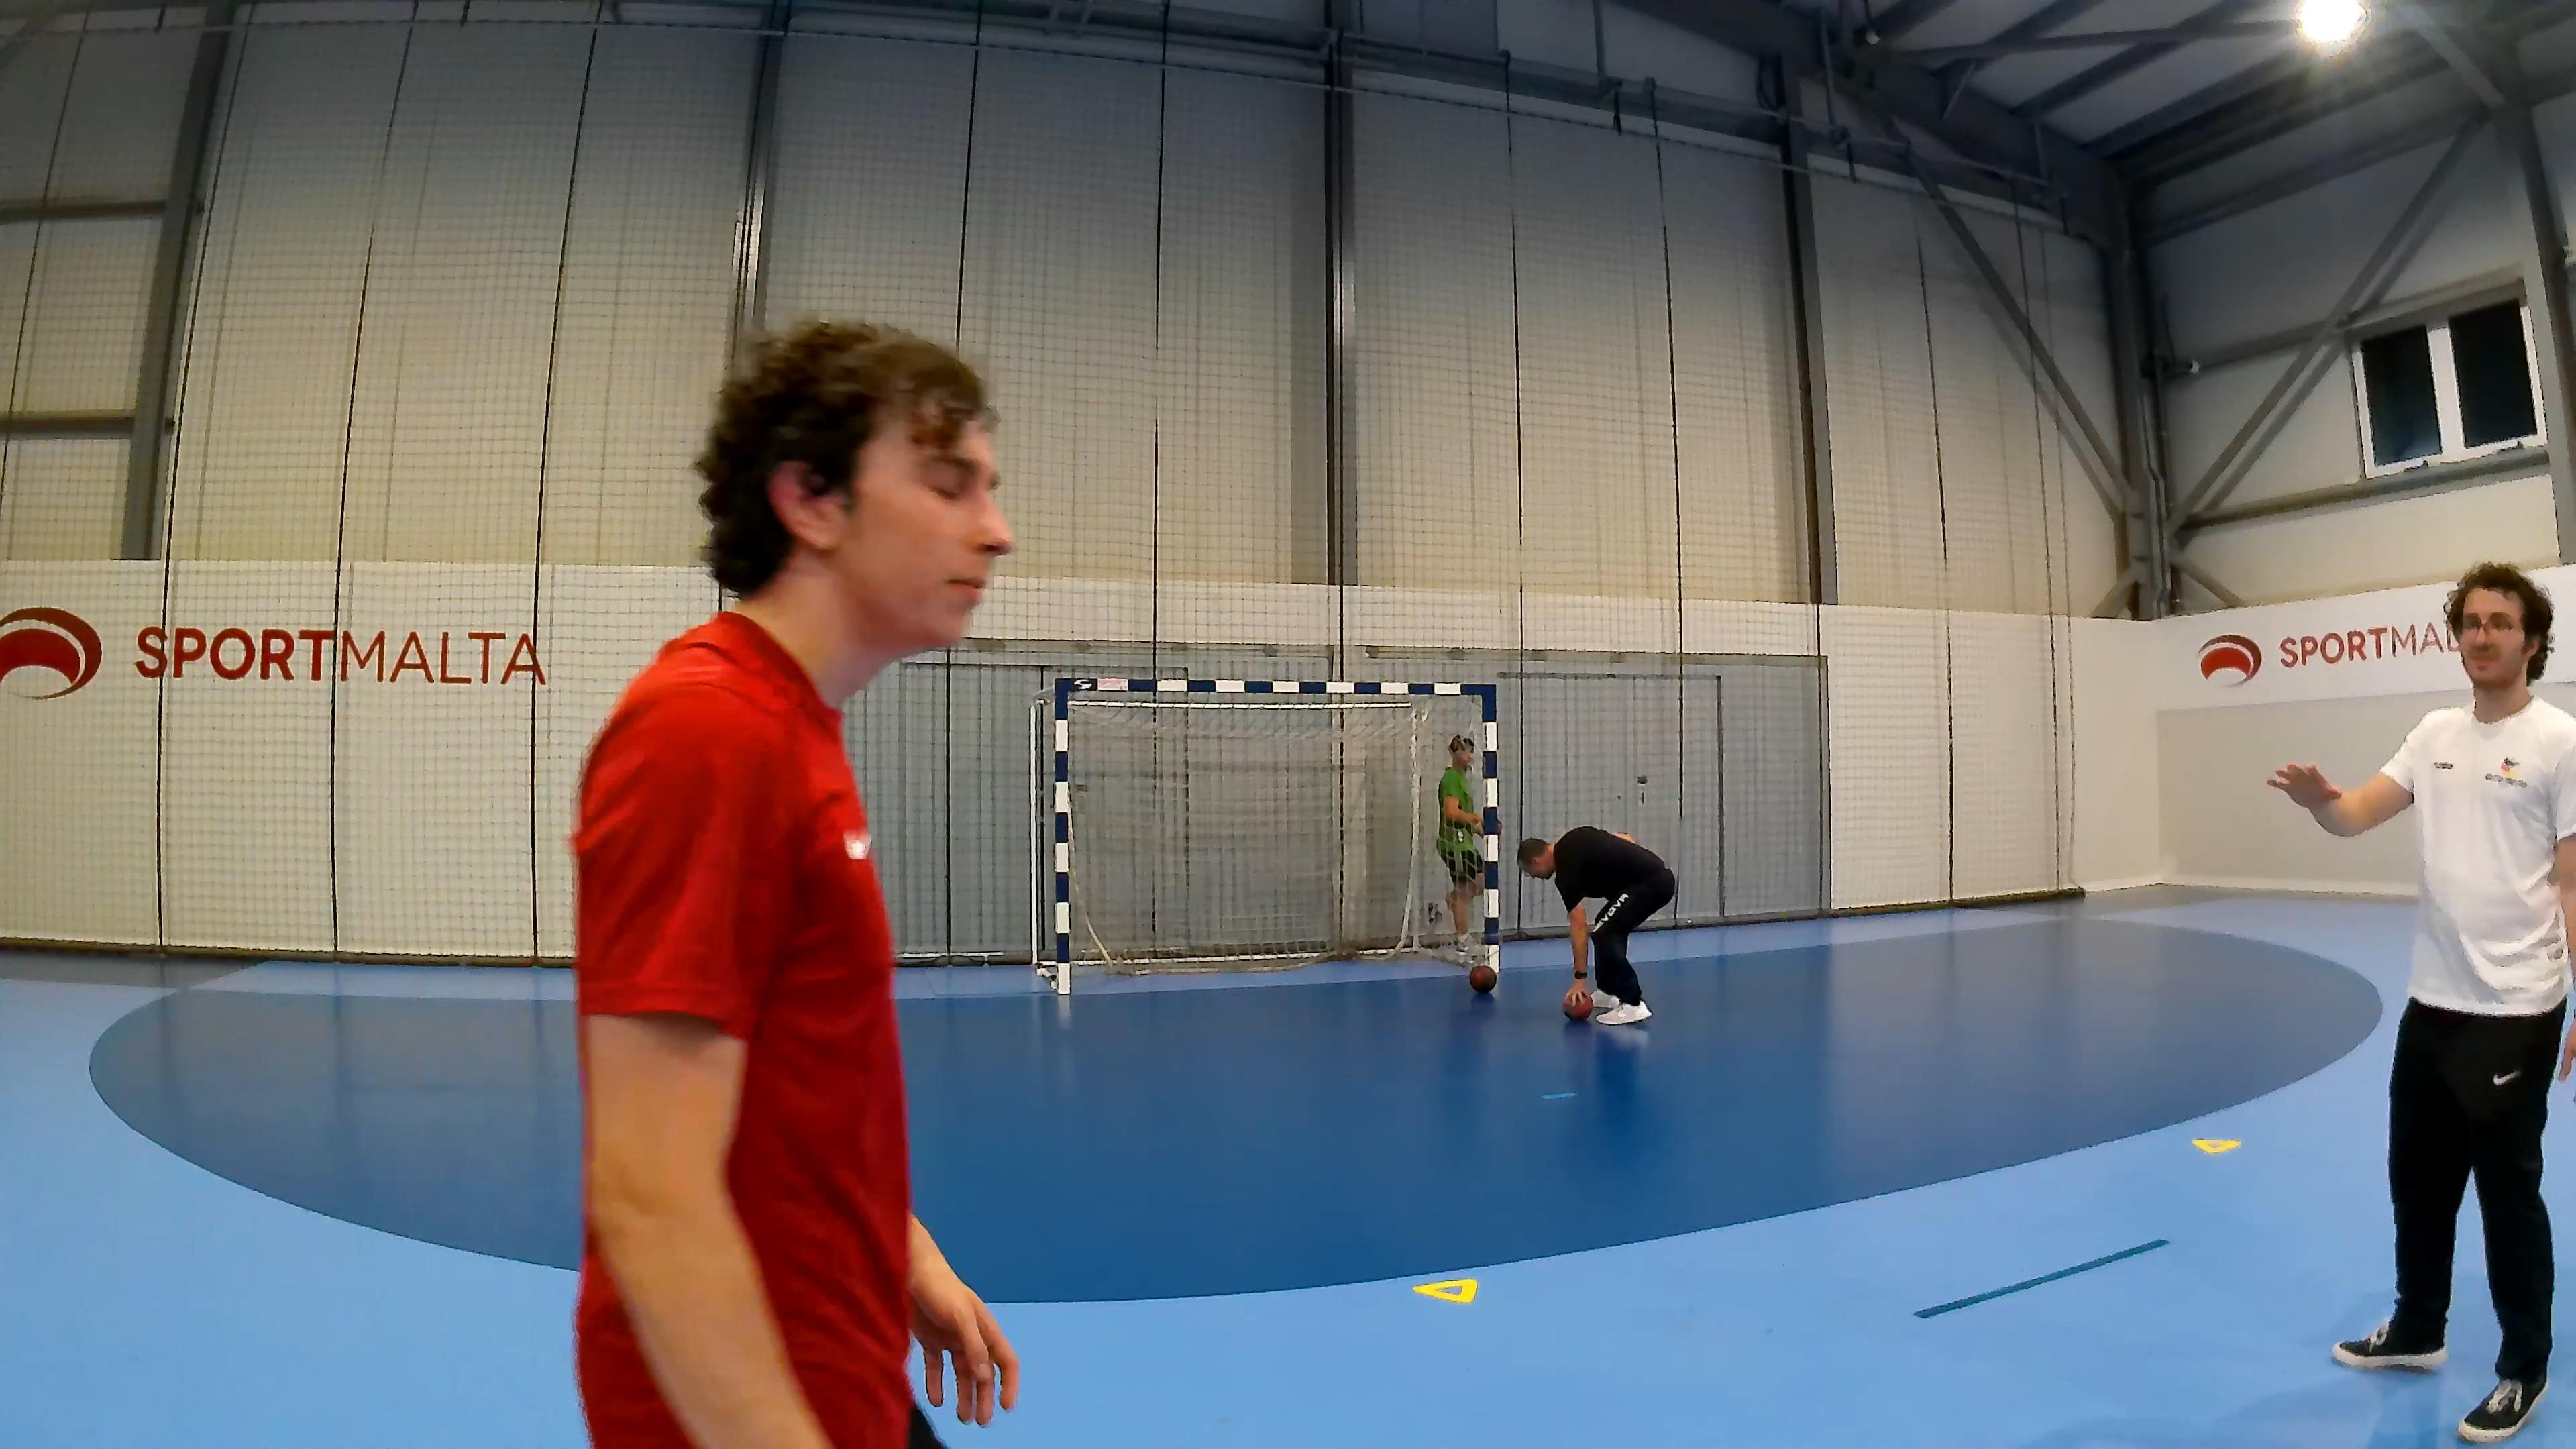handball: (1562, 984, 1594, 1019), (1468, 962, 1497, 993)
